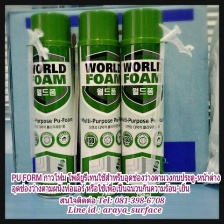aerosol_cans: (73, 4, 126, 201), (26, 7, 79, 201), (116, 4, 168, 201)
